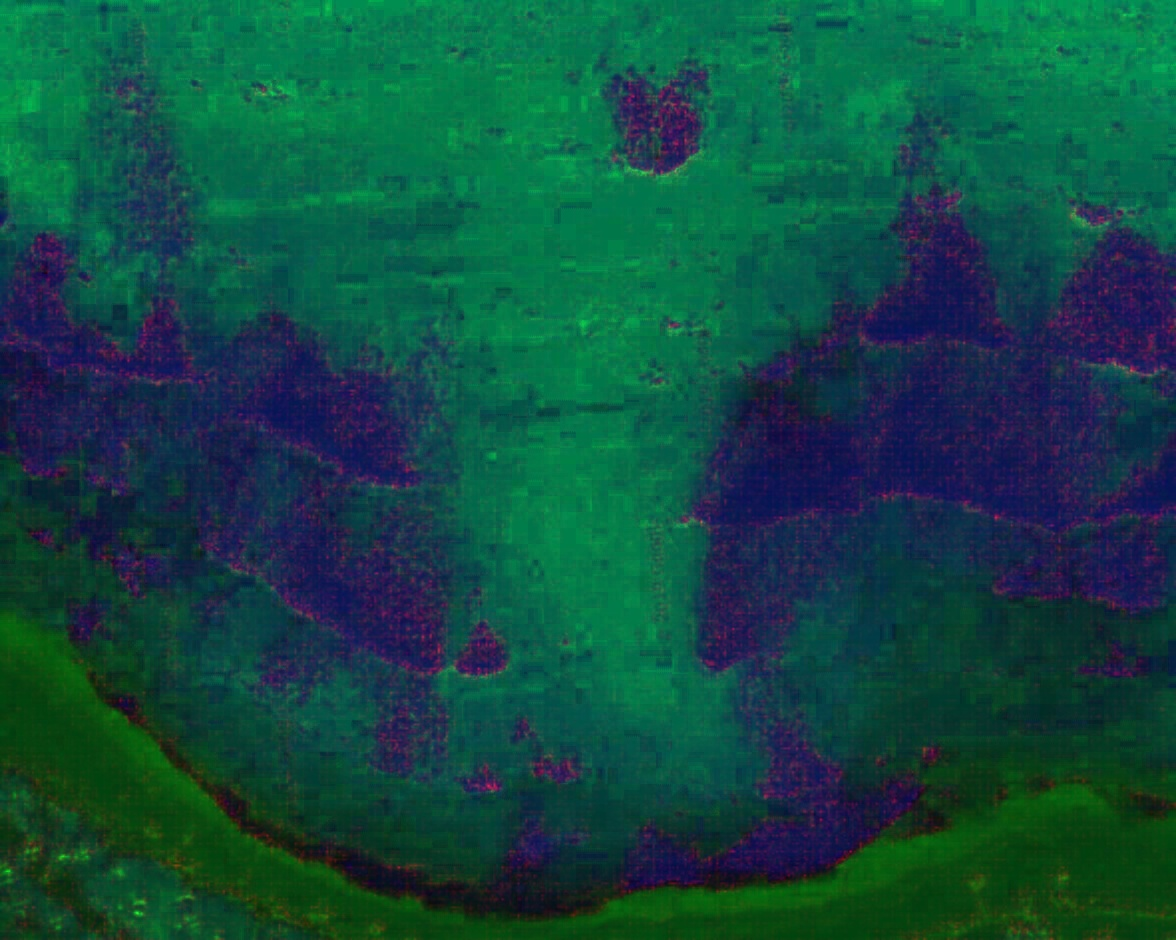rip_current: (357, 218, 844, 840)
